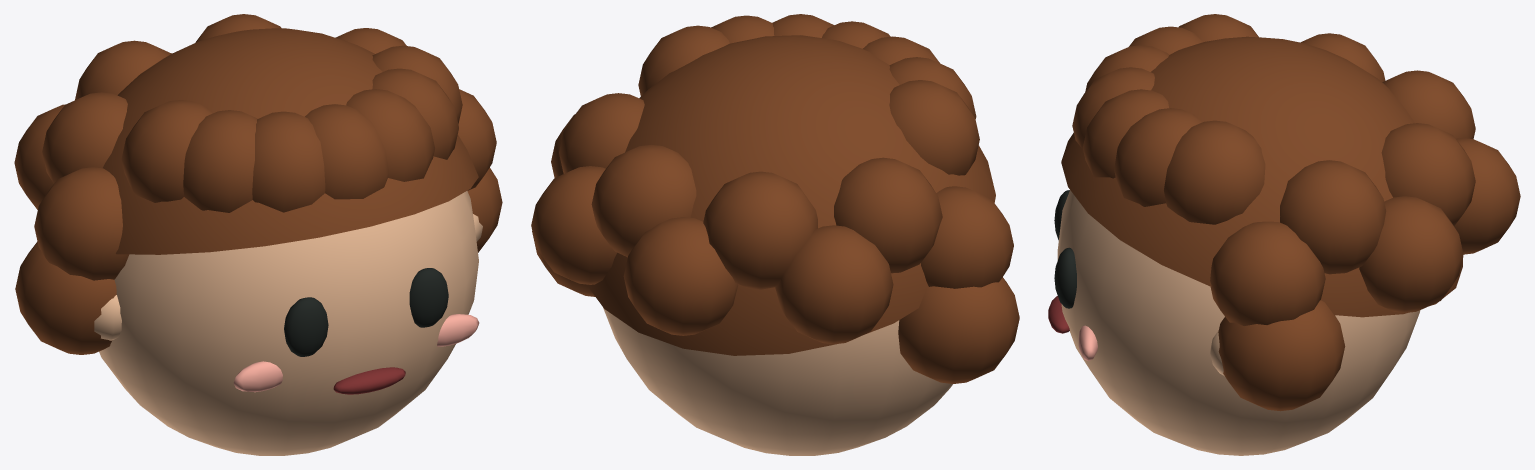
Rendered from narae.glb.
3 views of the same model, side by side, from view 1: azimuth 30°, elevation 25°; view 2: azimuth 150°, elevation 25°; view 3: azimuth 270°, elevation 25° (orthographic).
Visible parts, largest first — view 1: face, hair, curl8, curlSide-1, curl6, curl5, curl7, curl4, curl9, curl3, curl2, curl11 (+12 smaller); view 2: hair, face, curl10, curl12, curlSide-1, curl11, curl9, curl13, curl8, curl14, curl7, curl15 (+7 smaller); view 3: hair, face, curlSide1, curl0, curl15, curl14, curl1, curl13, curl2, curl12, curl11, curl3 (+8 smaller).
Boxes of the visible parts, <box> form: face: <box>99,191,478,455</box>; hair: <box>103,28,478,254</box>; curl8: <box>34,167,129,280</box>; curlSide-1: <box>15,241,116,354</box>; curl6: <box>183,110,257,212</box>; curl5: <box>252,111,325,212</box>; curl7: <box>121,100,212,202</box>; curl4: <box>305,104,388,199</box>; curl9: <box>42,92,127,183</box>; curl3: <box>346,89,434,181</box>; curl2: <box>372,68,458,159</box>; curl11: <box>75,40,170,99</box>; hair: <box>587,35,995,355</box>; face: <box>603,307,952,455</box>; curl10: <box>775,225,893,344</box>; curl12: <box>623,217,738,335</box>; curlSide-1: <box>898,277,1019,383</box>; curl11: <box>703,171,817,289</box>; curl9: <box>834,157,942,273</box>; curl13: <box>591,145,696,257</box>; curl8: <box>921,186,1013,288</box>; curl14: <box>531,166,616,284</box>; curl7: <box>889,80,979,175</box>; curl15: <box>559,93,644,173</box>; hair: <box>1061,36,1463,317</box>; face: <box>1057,190,1420,455</box>; curlSide1: <box>1218,300,1345,411</box>; curl0: <box>1210,221,1325,325</box>; curl15: <box>1280,160,1386,274</box>; curl14: <box>1359,196,1463,312</box>; curl1: <box>1164,120,1265,224</box>; curl13: <box>1381,123,1475,225</box>; curl2: <box>1114,108,1201,206</box>; curl12: <box>1454,138,1520,254</box>; curl11: <box>1382,70,1475,139</box>; curl3: <box>1082,89,1168,178</box>.
Bounding box in the file's own units: 1.64 × 1.29 × 1.45.
